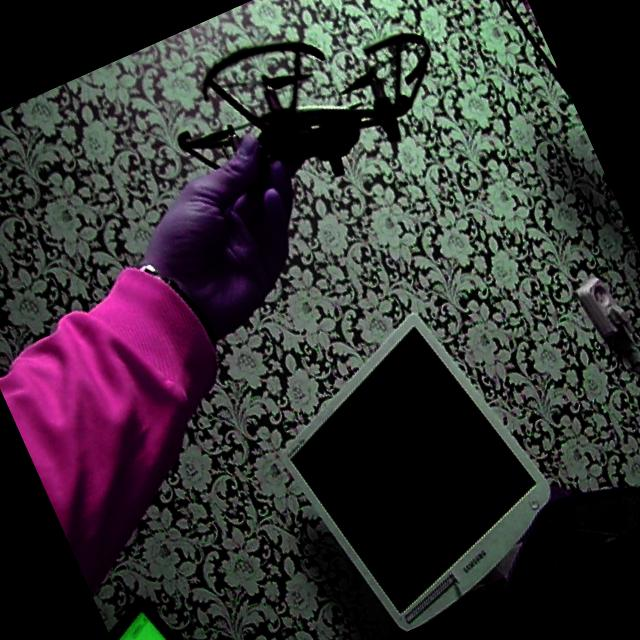drone: (141, 0, 486, 247)
